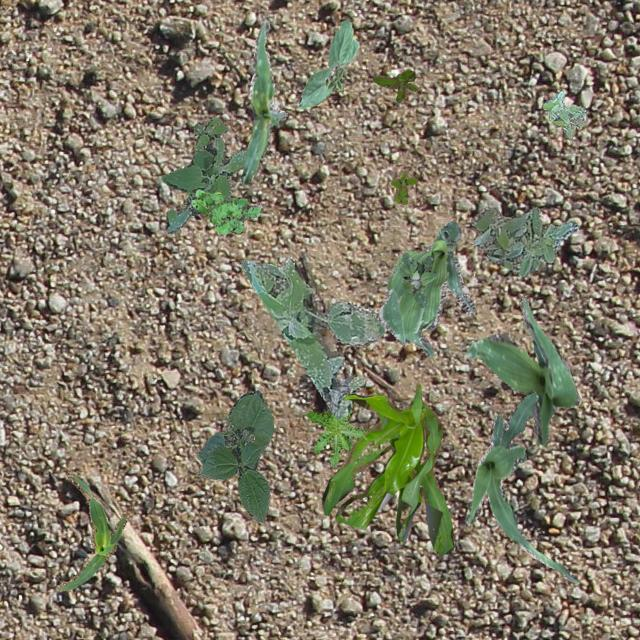crop: (322, 382, 452, 556), (464, 392, 578, 582), (466, 296, 578, 444), (378, 220, 474, 356), (196, 389, 272, 522), (56, 470, 128, 590), (240, 15, 286, 184), (298, 18, 358, 108)
weed: (240, 256, 386, 419), (159, 116, 247, 232), (471, 206, 576, 276), (306, 406, 366, 464), (190, 188, 260, 234), (542, 90, 586, 138), (398, 252, 436, 306), (372, 68, 416, 102), (389, 170, 416, 203)
